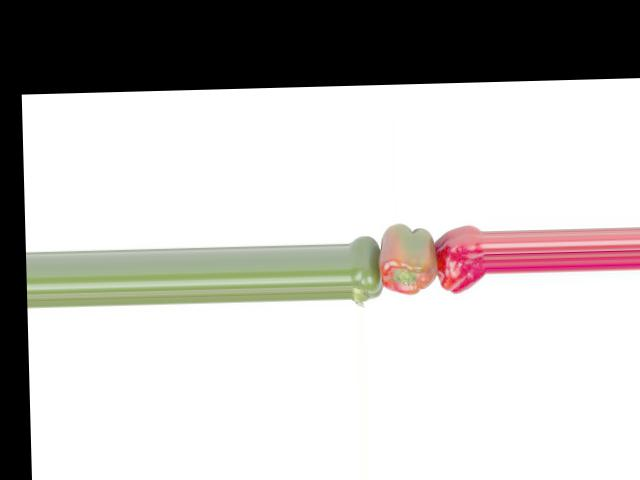bell_pepper: (433, 221, 485, 300)
